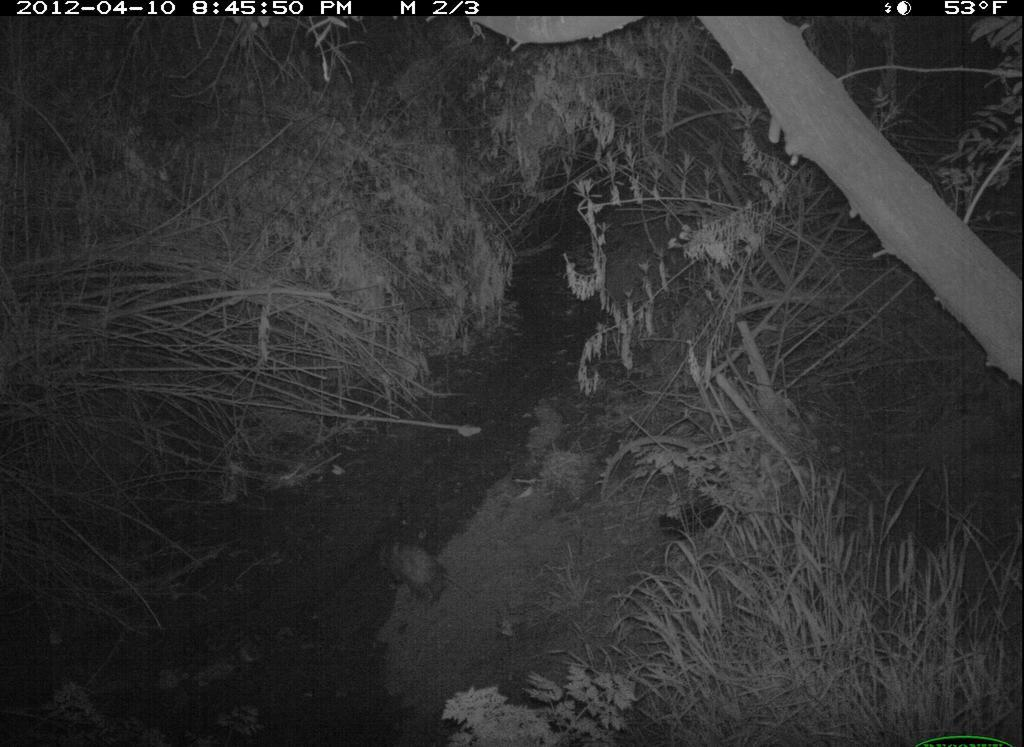opossum: (365, 532, 491, 614)
